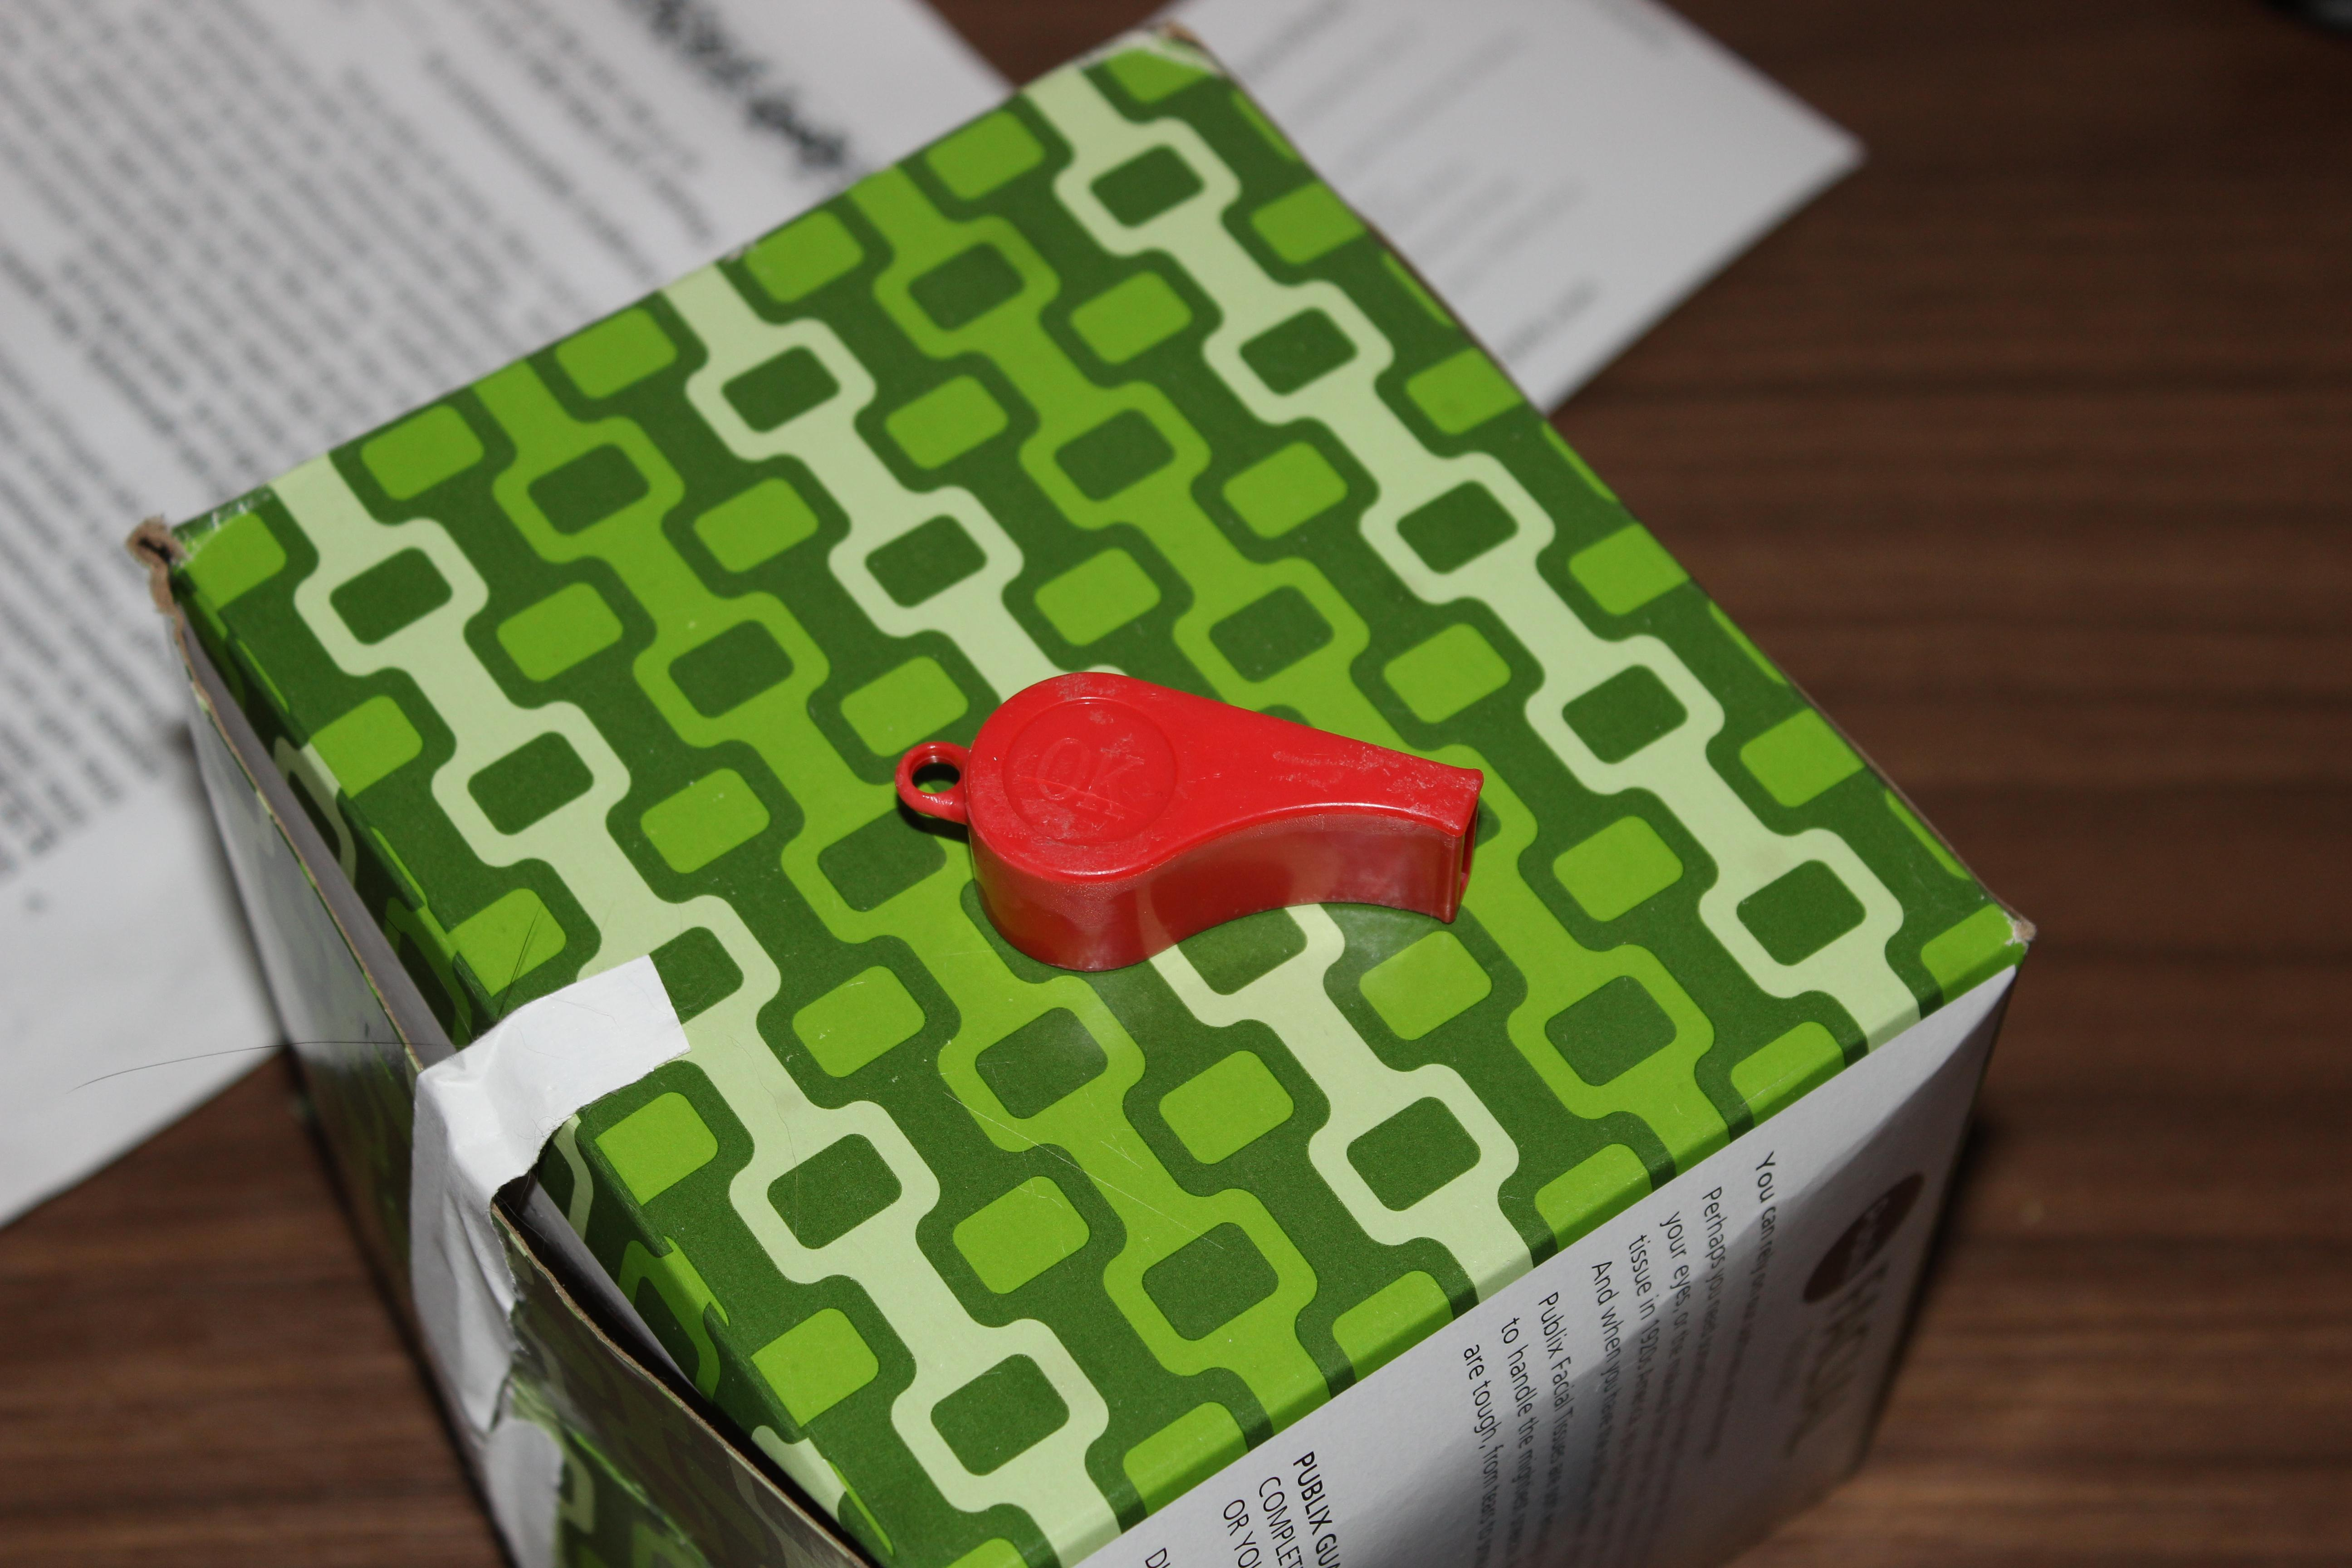redWhistle: (877, 637, 1514, 1006)
